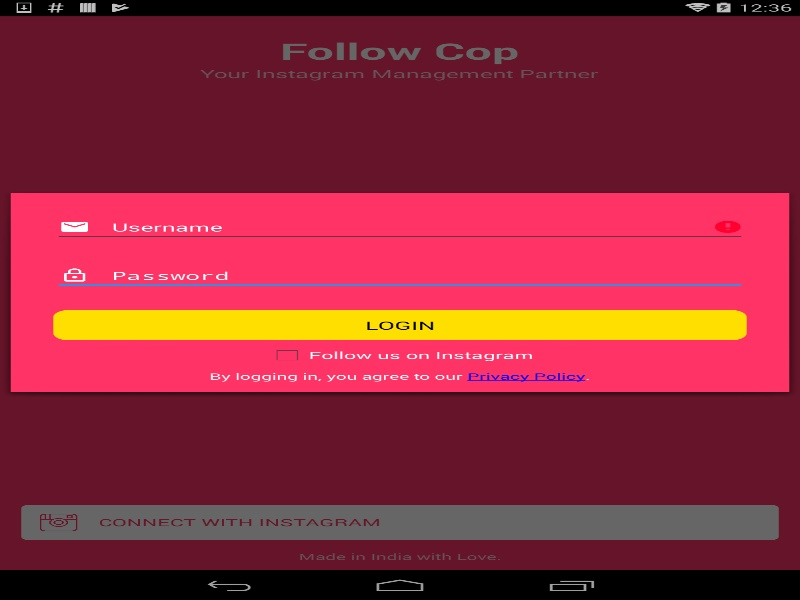Input: (53, 261, 746, 290), (53, 213, 746, 241)
